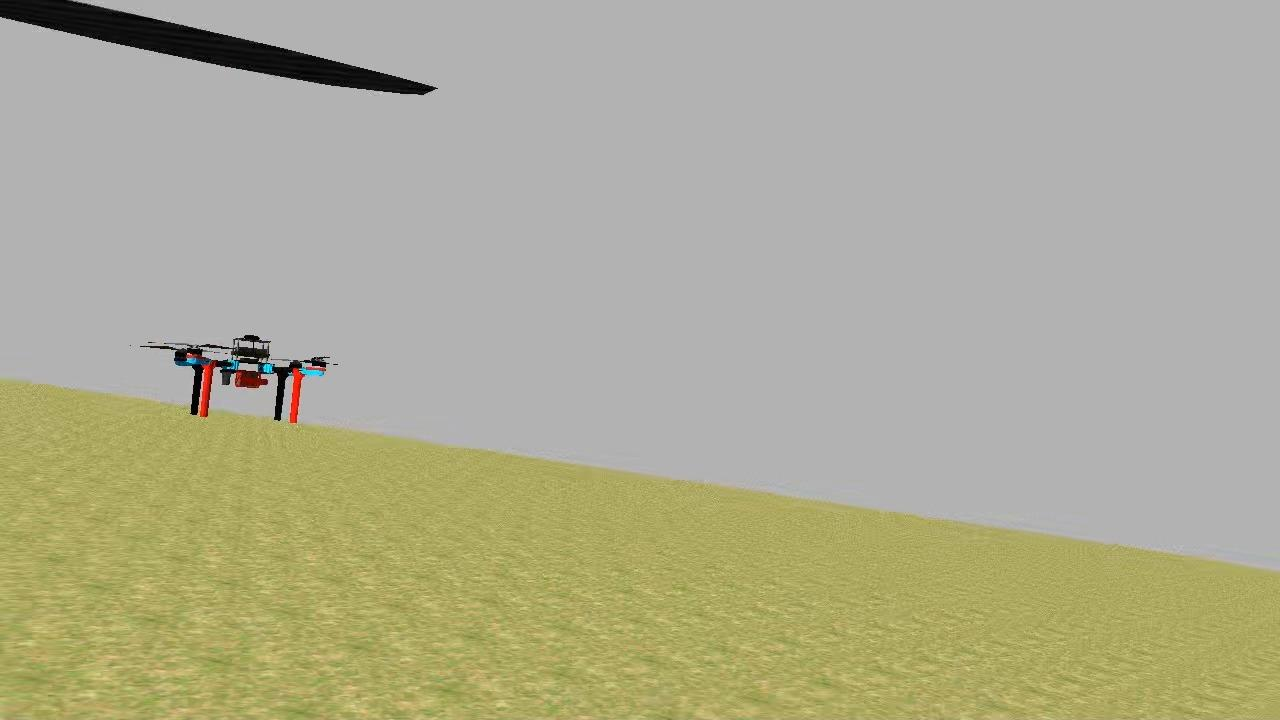UAV: (167, 321, 333, 426)
